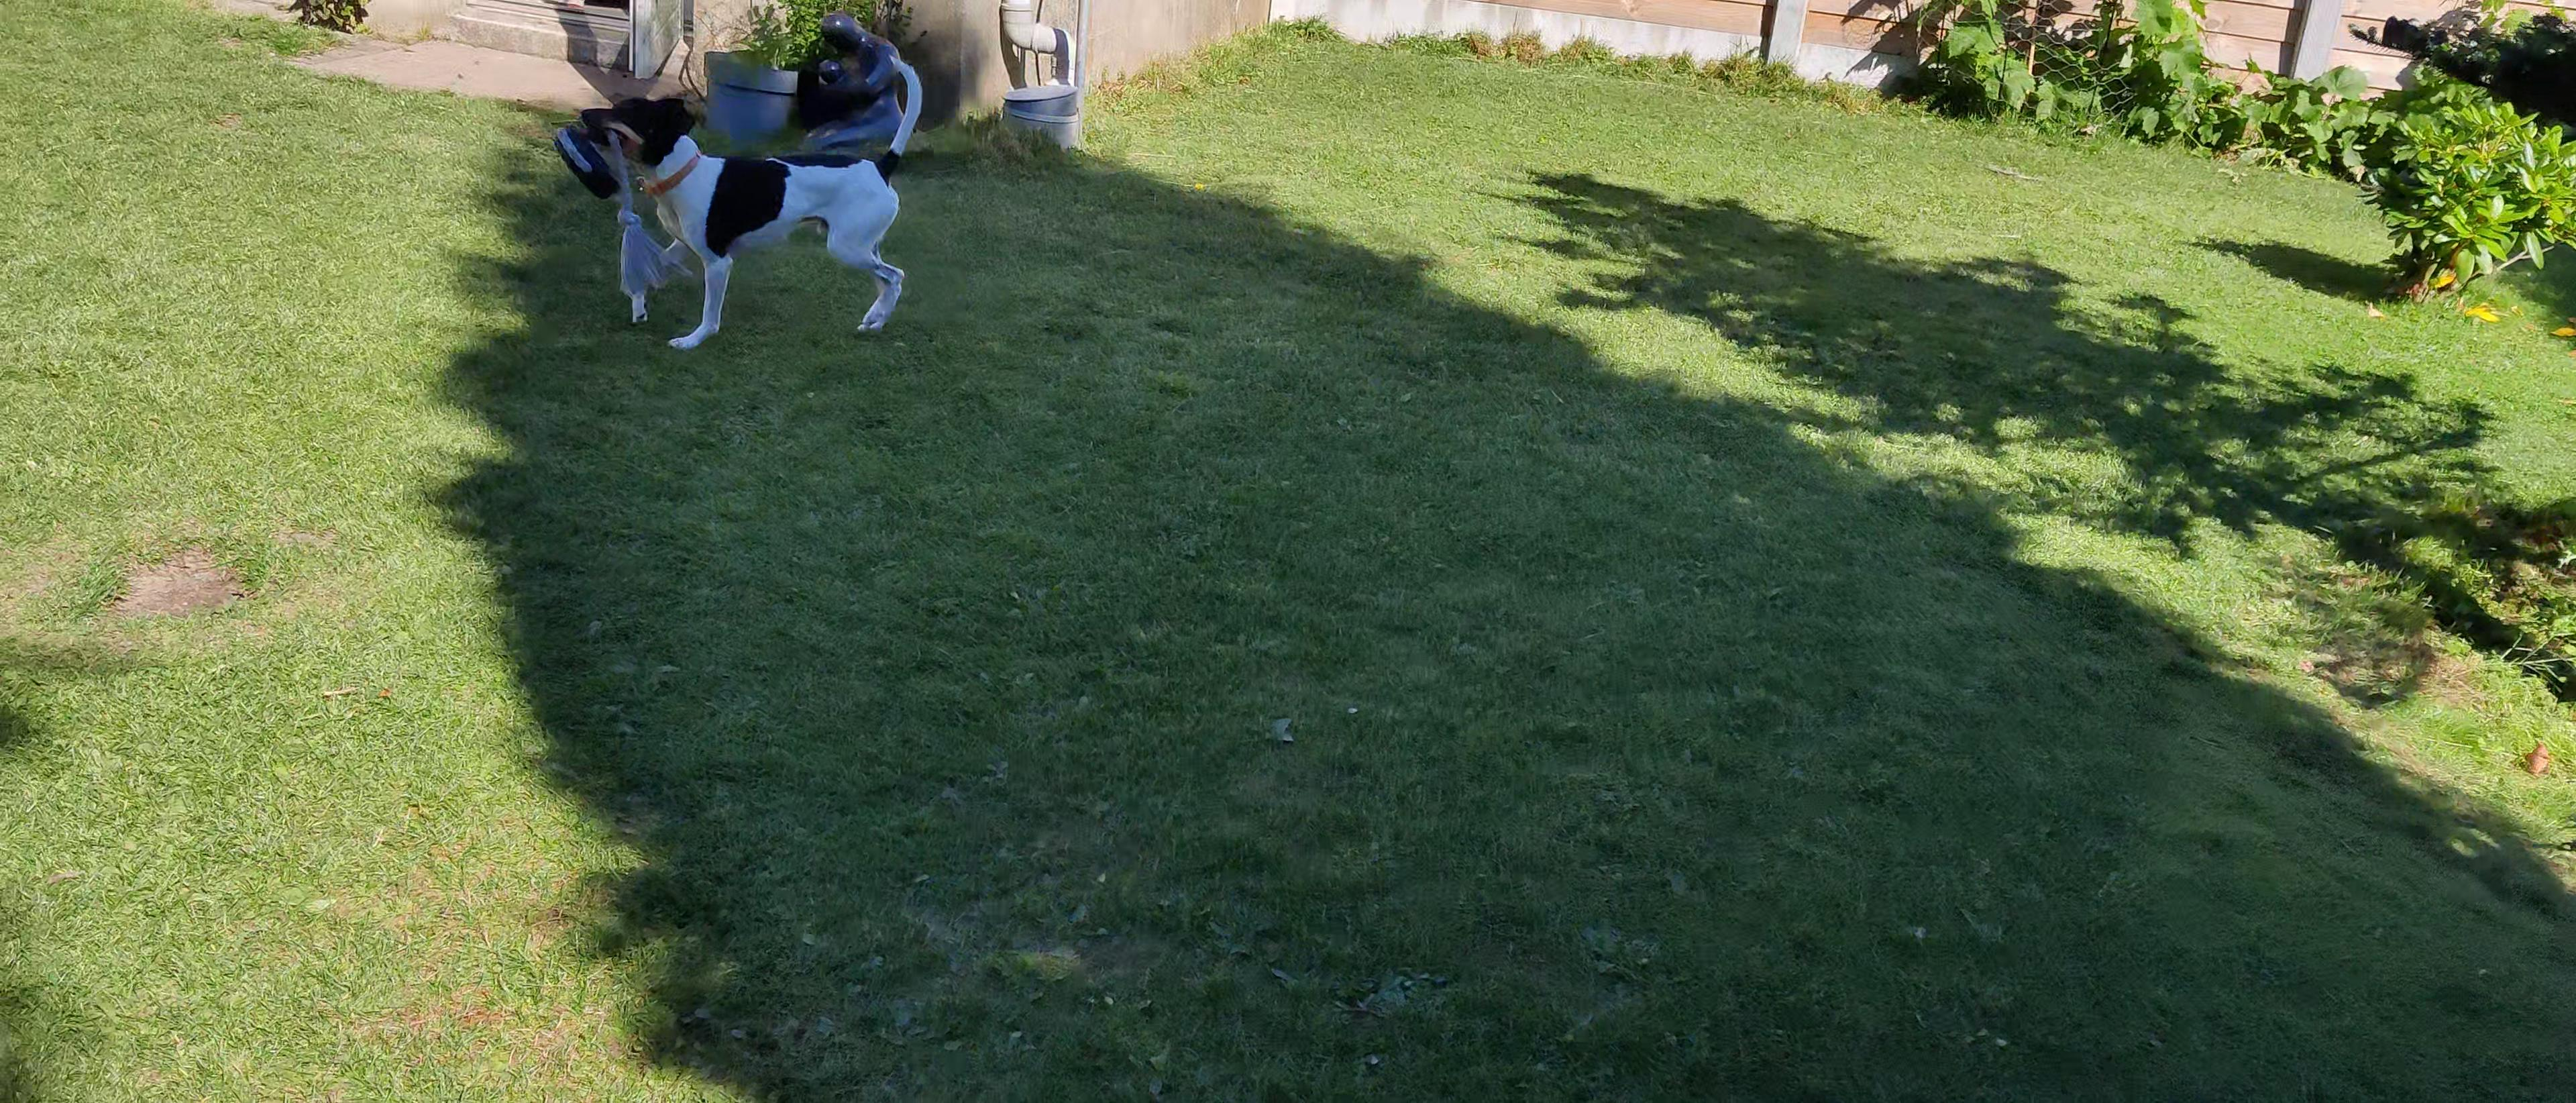Dog: (573, 51, 927, 355)
